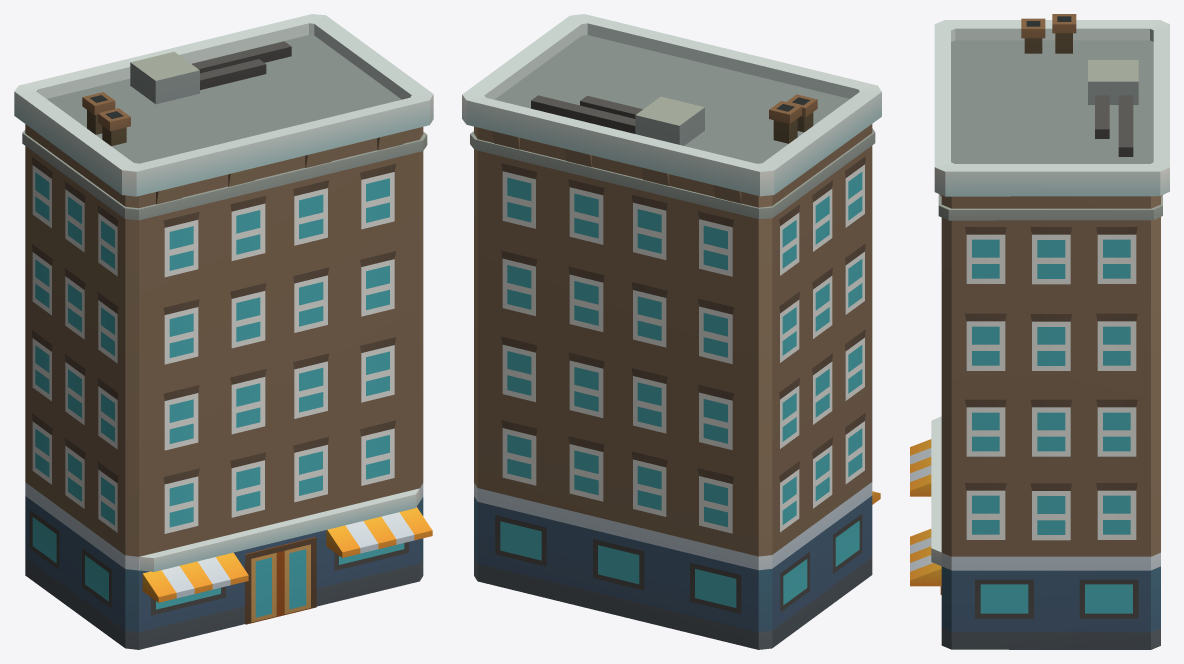
Rendered from Building_cartoon_13.fbx.
The picture shows the model from 3 angles, left to right: view 1: azimuth 30°, elevation 25°; view 2: azimuth 150°, elevation 25°; view 3: azimuth 270°, elevation 25°; orthographic projection.
Parts seen in each view (by area): view 1: Building_cartoon_13; view 2: Building_cartoon_13; view 3: Building_cartoon_13.
Part boxes in pixels (x1=…): Building_cartoon_13: x1=14, y1=14, x2=433, y2=649; Building_cartoon_13: x1=462, y1=14, x2=881, y2=649; Building_cartoon_13: x1=910, y1=14, x2=1169, y2=649.
Size of the model in its own units: 1189 by 1825 by 859.
